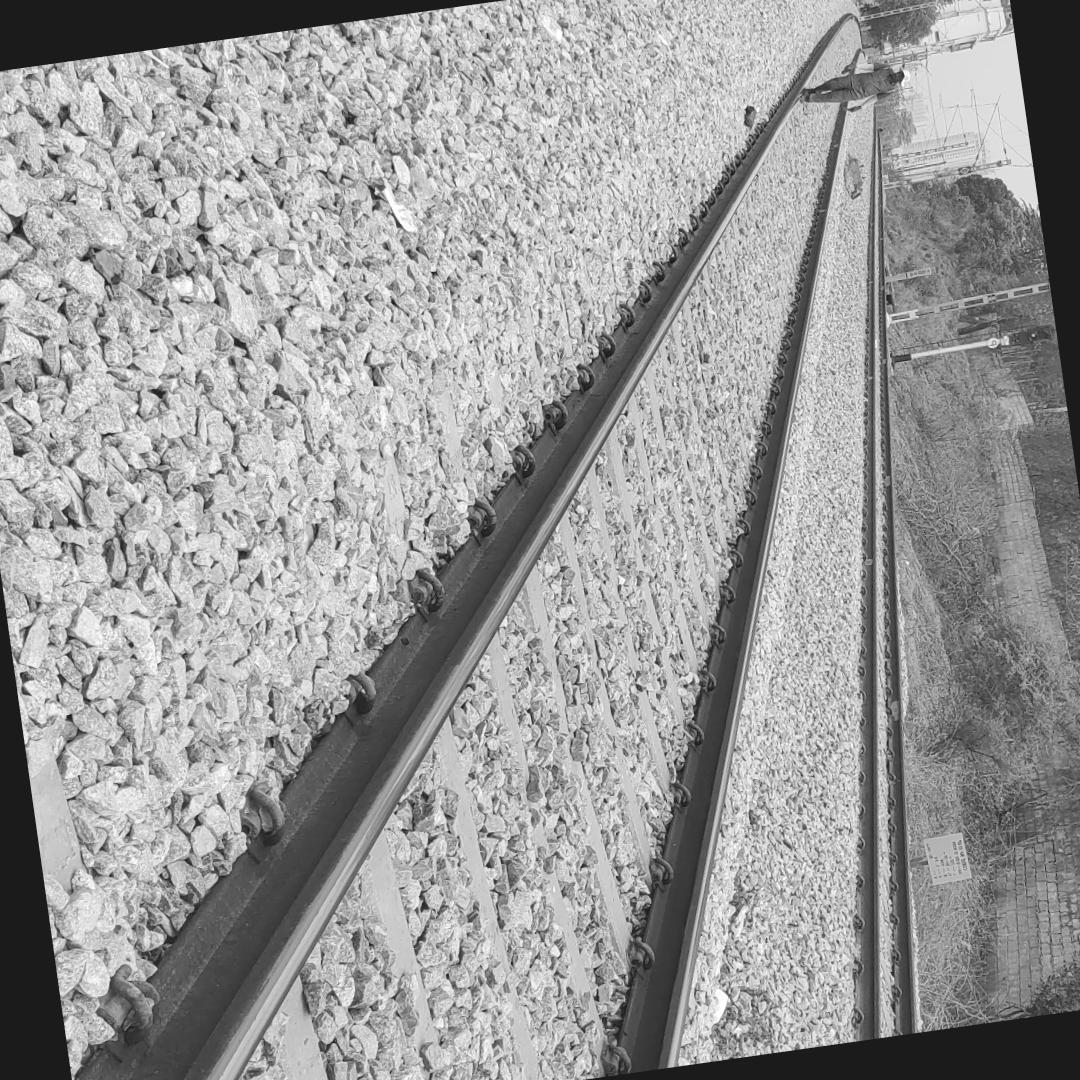standing: (786, 46, 906, 129)
track: (60, 0, 875, 1080)
